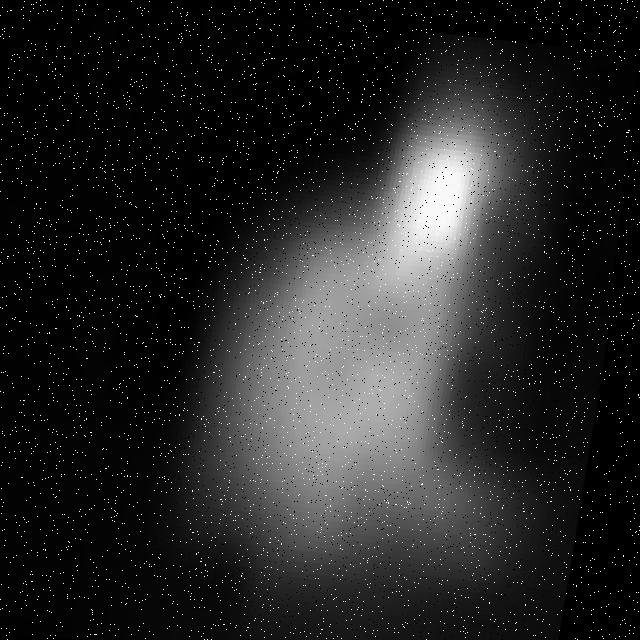person: (173, 51, 572, 640)
